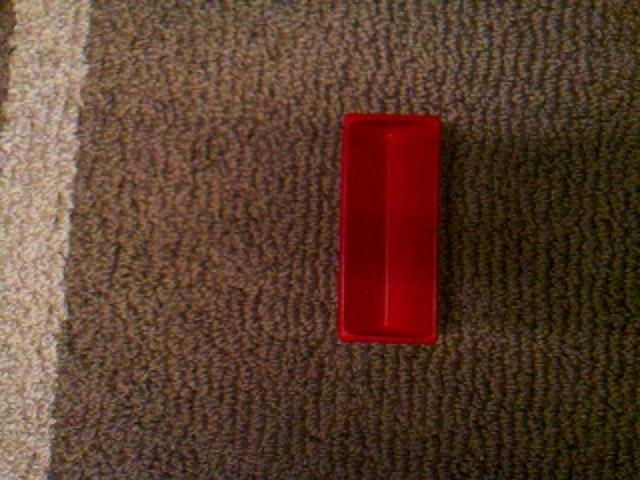red: (337, 113, 443, 346)
